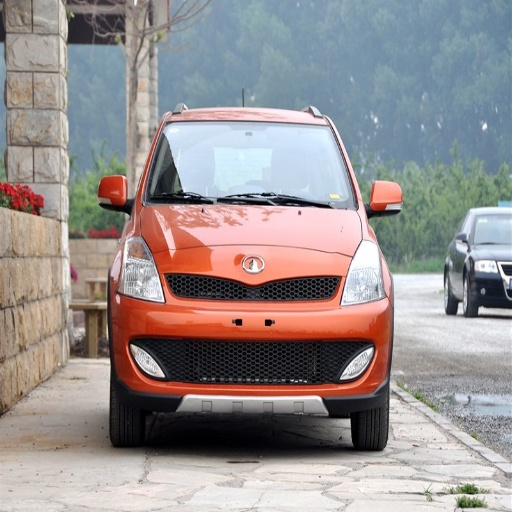front_bumper: (114, 273, 390, 409), (212, 245, 352, 269)
front_right_light: (114, 237, 162, 302)
hood: (136, 204, 365, 285)
left_mirror: (367, 181, 403, 216)
